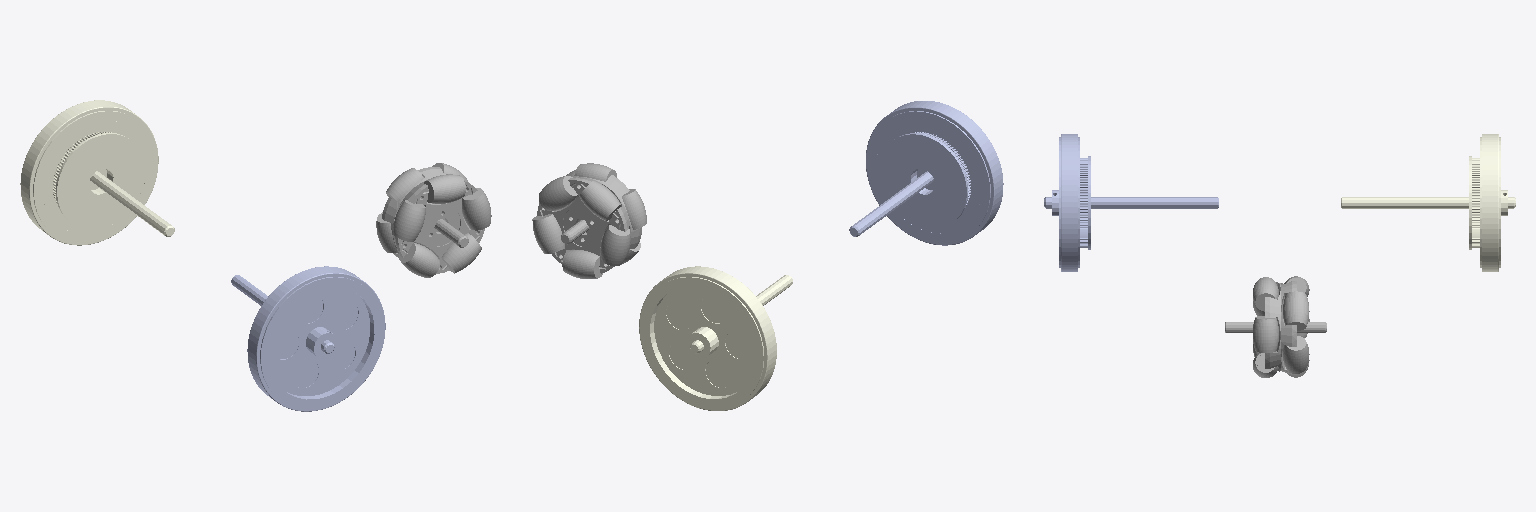
robot.urdf — dog1:
<?xml version="1.0" ?>
<robot
  name="dog1">
  <link
    name="base_link">
    <inertial>
      <origin
        xyz="0.086236 -0.00053701 0.022928"
        rpy="0 0 0" />
      <mass
        value="1.1657" />
      <inertia
        ixx="0.010059"
        ixy="-3.9949E-06"
        ixz="7.2281E-06"
        iyy="0.0071159"
        iyz="-3.3476E-06"
        izz="0.014078" />
    </inertial>
    <visual>
      <origin
        xyz="0 0 0"
        rpy="0 0 0" />
      <geometry>
        <mesh
          filename="package://dog1/meshes/base_link.STL" />
      </geometry>
      <material
        name="">
        <color
          rgba="0.79216 0.81961 0.93333 1" />
      </material>
    </visual>
    <collision>
      <origin
        xyz="0 0 0"
        rpy="0 0 0" />
      <geometry>
        <mesh
          filename="package://dog1/meshes/base_link.STL" />
      </geometry>
    </collision>
  </link>
  <link
    name="L_Link">
    <inertial>
      <origin
        xyz="2.0791E-06 8.5902E-07 -0.018047"
        rpy="0 0 0" />
      <mass
        value="0.1021" />
      <inertia
        ixx="6.9455E-05"
        ixy="5.4233E-10"
        ixz="-3.3428E-09"
        iyy="6.9454E-05"
        iyz="-1.3811E-09"
        izz="0.00010157" />
    </inertial>
    <visual>
      <origin
        xyz="0 0 0"
        rpy="3.14159 0 0" />
      <geometry>
        <mesh
          filename="package://dog1/meshes/L_Link.STL" />
      </geometry>
      <material
        name="">
        <color
          rgba="1 1 0.93333 1" />
      </material>
    </visual>
    <collision>
      <origin
        xyz="0 0 0"
        rpy="3.14159 0 0" />
      <geometry>
        <mesh
          filename="package://dog1/meshes/L_Link.STL" />
      </geometry>
    </collision>
  </link>
  <joint
    name="L_joint"
    type="continuous">
    <origin
      xyz="0 0.1566 0"
      rpy="1.5708 1.5708 0" />
    <parent
      link="base_link" />
    <child
      link="L_Link" />
    <axis
      xyz="0 0 1" />
    <dynamics
      friction="10" />
  </joint>

  <!--###################################################-->
  <link
    name="R_Link">
    <inertial>
      <origin
        xyz="2.0791E-06 8.5899E-07 0.018047"
        rpy="0 0 0" />
      <mass
        value="0.1021" />
      <inertia
        ixx="6.9455E-05"
        ixy="5.4232E-10"
        ixz="3.3428E-09"
        iyy="6.9454E-05"
        iyz="1.3811E-09"
        izz="0.00010157" />
    </inertial>
    <visual>
      <origin
        xyz="0 0 0"
        rpy="3.14159 0 0" />
      <geometry>
        <mesh
          filename="package://dog1/meshes/R_Link.STL" />
      </geometry>
      <material
        name="">
        <color
          rgba="0.79216 0.81961 0.93333 1" />
      </material>
    </visual>
    <collision>
      <origin
        xyz="0 0 0"
        rpy="3.14159 0 0" />
      <geometry>
        <mesh
          filename="package://dog1/meshes/R_Link.STL" />
      </geometry>
    </collision>
  </link>
  <joint
    name="R_joint"
    type="continuous">
    <origin
      xyz="0 -0.1566 0"
      rpy="1.5708 1.5708 0" />
    <parent
      link="base_link" />
    <child
      link="R_Link" />
    <axis
      xyz="0 0 1" />
    <dynamics
      friction="10" />
  </joint>
  <link
    name="free_Link">
    <inertial>
      <origin
        xyz="5.8889E-12 3.2808E-11 -0.00055748"
        rpy="0 0 0" />
      <mass
        value="0.090747" />
      <inertia
        ixx="3.5132E-05"
        ixy="-7.7199E-16"
        ixz="1.9863E-14"
        iyy="3.5201E-05"
        iyz="-5.3011E-14"
        izz="5.1852E-05" />
    </inertial>
    <visual>
      <origin
        xyz="0 0 0"
        rpy="0 0 0" />
      <geometry>
        <mesh
          filename="package://dog1/meshes/free_Link.STL" />
      </geometry>
      <material
        name="">
        <color
          rgba="0.75294 0.75294 0.75294 1" />
      </material>
    </visual>
    <collision>
      <origin
        xyz="0 0 0"
        rpy="0 0 0" />
      <geometry>
        <mesh
          filename="package://dog1/meshes/free_Link.STL" />
      </geometry>
    </collision>
  </link>
  <joint
    name="free_joint"
    type="fixed">
    <origin
      xyz="0.17 0 -0.015"
      rpy="1.5708 0.063602 -1.0513E-16" />
    <parent
      link="base_link" />
    <child
      link="free_Link" />
    <axis
      xyz="0 0 0" />
    <dynamics
      friction="0" />
  </joint>




  <gazebo reference="base_link">
      <material>Gazebo/Blue</material>
  </gazebo>

  <gazebo reference="L_Link">
      <material>Gazebo/Orange</material>
  </gazebo>

  <gazebo reference="R_Link">
      <material>Gazebo/Orange</material>
  </gazebo>

  <gazebo reference="free_Link">
      <material>Gazebo/Black</material>
  </gazebo>
</robot>

--- Render facts (derived) ---
Views: 3 orthographic renders of the robot side by side, from view 1: azimuth 30°, elevation 25°; view 2: azimuth 150°, elevation 25°; view 3: azimuth 270°, elevation 25°.
Model dog1 with 4 links and 3 joints (2 continuous, 1 fixed), rooted at base_link, posed every joint at zero.
Links seen in each view (by area): view 1: L_Link, R_Link, free_Link; view 2: L_Link, R_Link, free_Link; view 3: free_Link, L_Link, R_Link.
Link boxes in pixels (box(x1,y1,x2,y2)): L_Link: box(20, 100, 174, 245); R_Link: box(231, 266, 385, 411); free_Link: box(376, 163, 491, 277); L_Link: box(639, 266, 792, 410); R_Link: box(849, 101, 1003, 245); free_Link: box(532, 163, 646, 278); free_Link: box(1225, 276, 1326, 377); L_Link: box(1341, 134, 1515, 271); R_Link: box(1044, 134, 1218, 271).
Size in the robot's own frame: 0.2525 by 0.3232 by 0.0975 metres.
3 mesh visuals loaded from 4 distinct referenced files (3 binary STL); not drawn: 1 (reference not matched to a file when rendering).